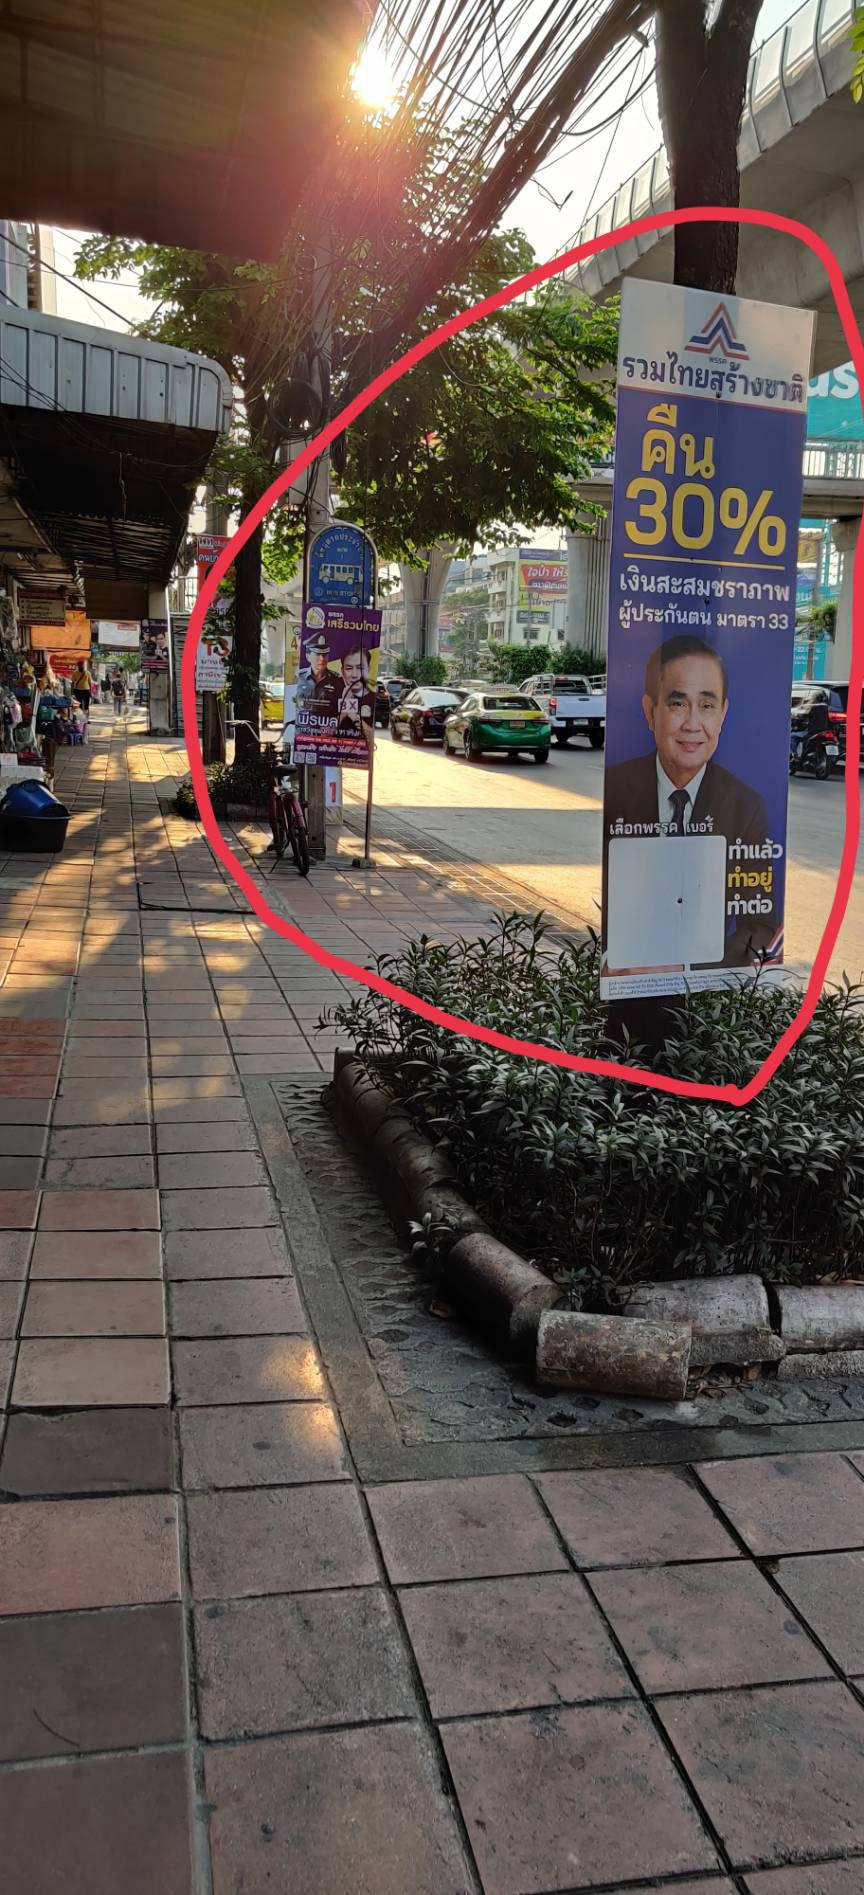Banner: (619, 279, 818, 991)
